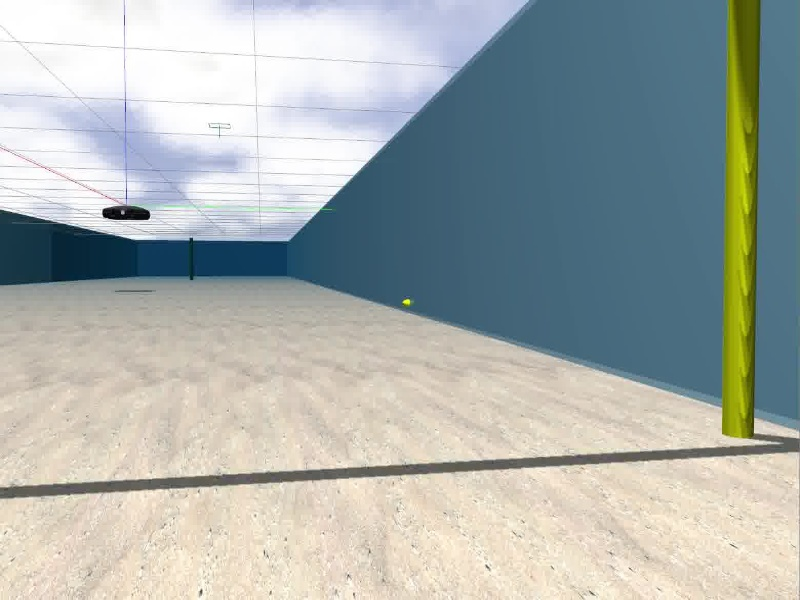gate: (720, 1, 758, 439)
